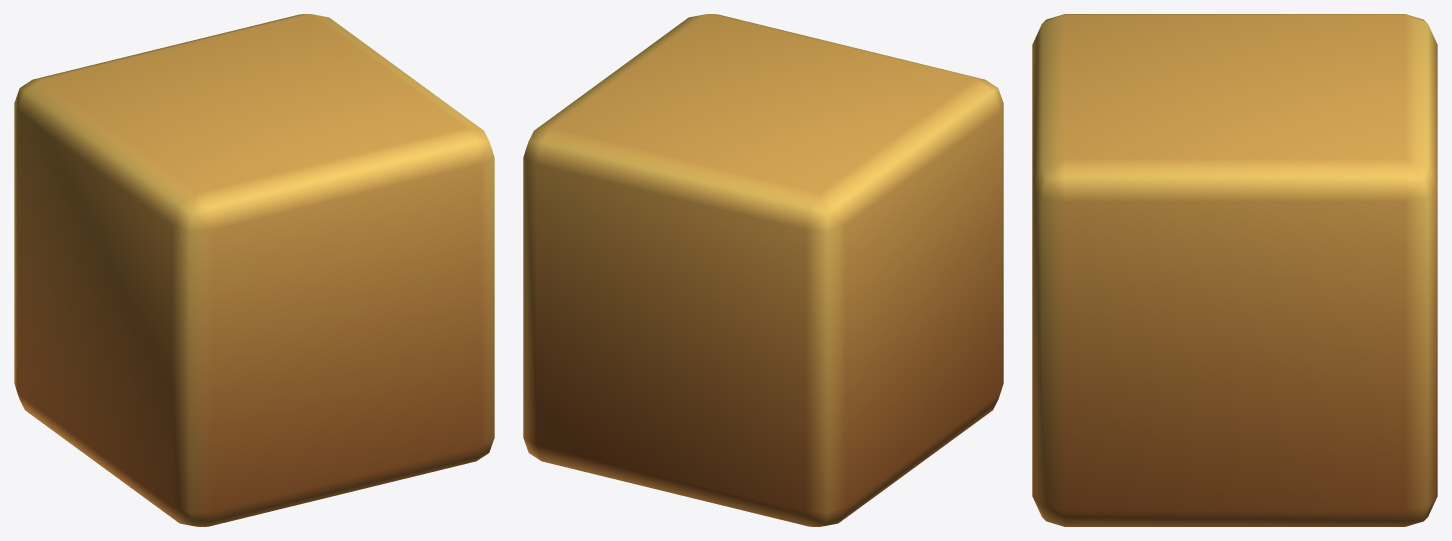
File: cube-gold.glb
3 views of the same model, side by side, from view 1: azimuth 30°, elevation 25°; view 2: azimuth 150°, elevation 25°; view 3: azimuth 270°, elevation 25° (orthographic). The views are drawn at different scales.
Visible parts, largest first — view 1: cube_gold; view 2: cube_gold; view 3: cube_gold.
Boxes of the visible parts, x1,y1,x2,y2 form: cube_gold: [14, 14, 494, 526]; cube_gold: [523, 14, 1003, 526]; cube_gold: [1032, 14, 1437, 526].
Bounding box in the file's own units: 0.5 × 0.5 × 0.5.
Materials: 1 (1 with a texture image).
